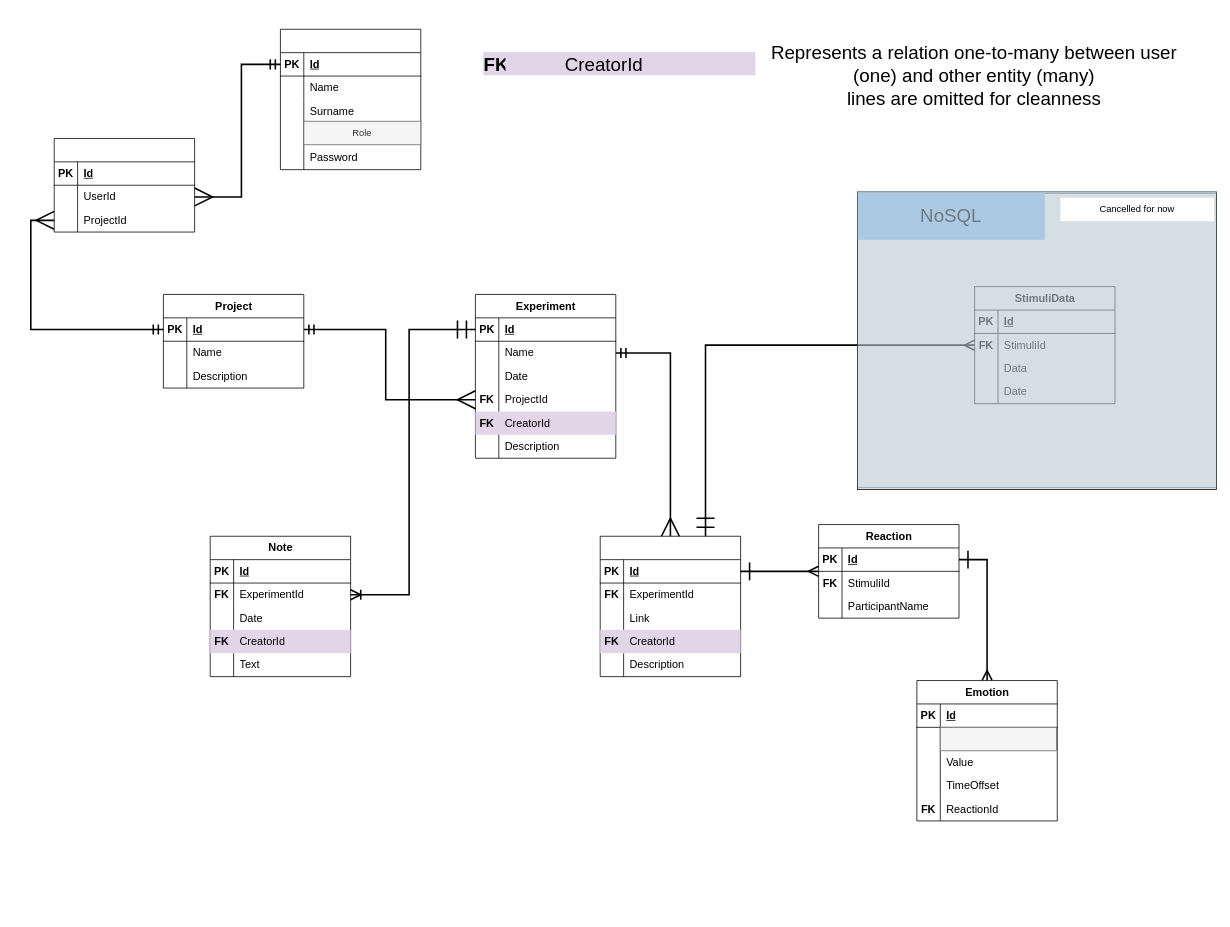
The diagram is 1230 pixels wide and 927 high, and some of its shapes have lost their labels. The shapes that lost their labels are listed below. From the top down, each one's box as (x1, y1, x2, y2) in pixels, then its label:
(280, 28, 421, 170): User
(53, 138, 195, 232): UserProject
(599, 535, 741, 677): Stimuli
(940, 727, 1057, 751): EmotionType
